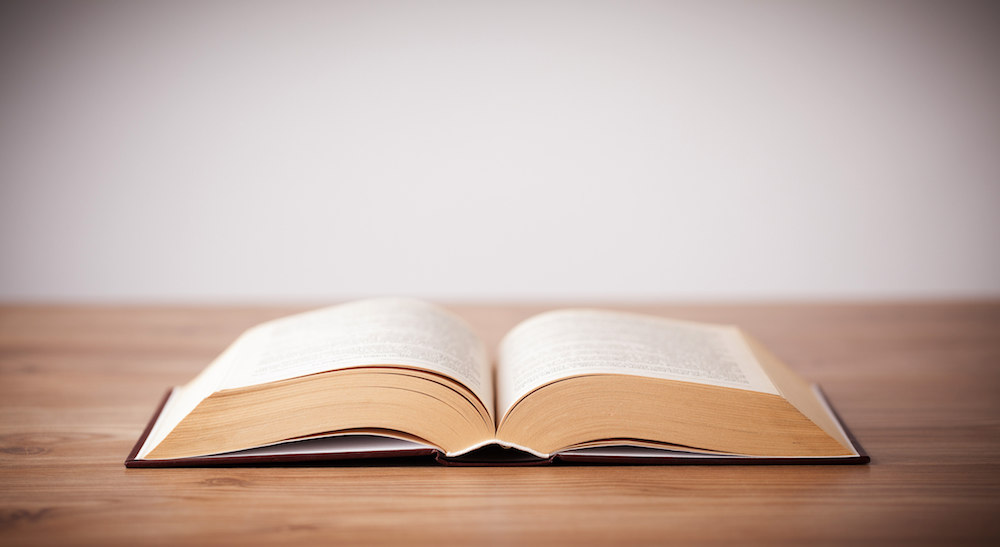Open Book: (133, 297, 865, 471)
